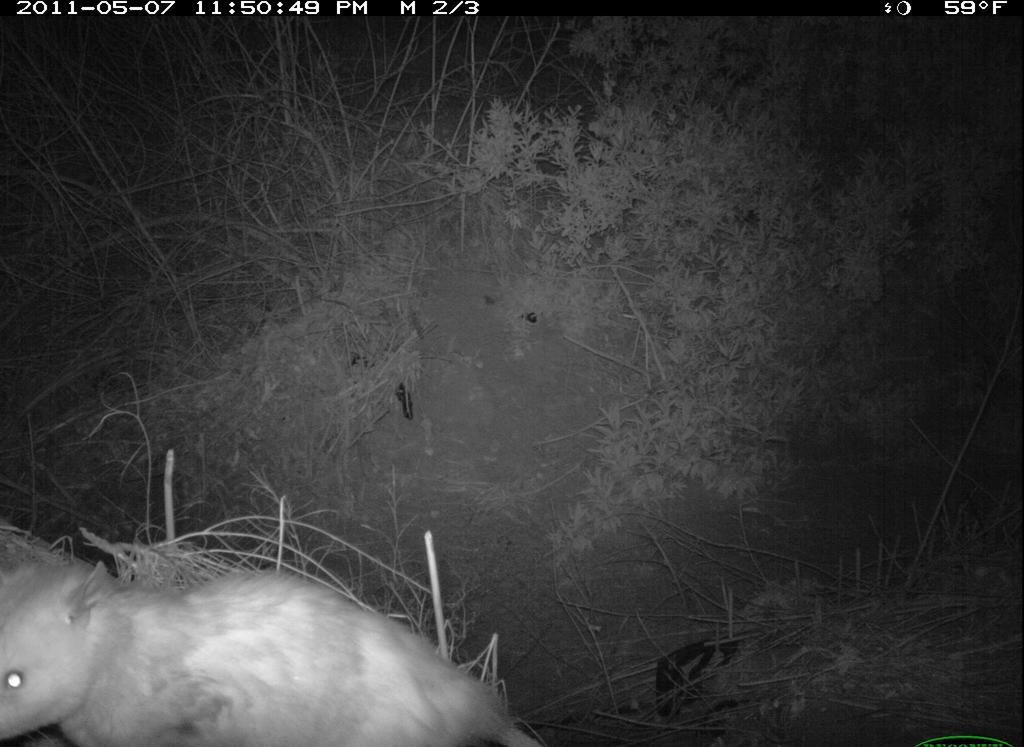opossum: (4, 523, 553, 743)
